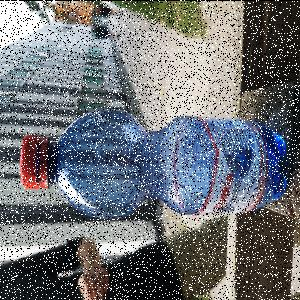Plastic-bottle: (20, 109, 290, 220)
